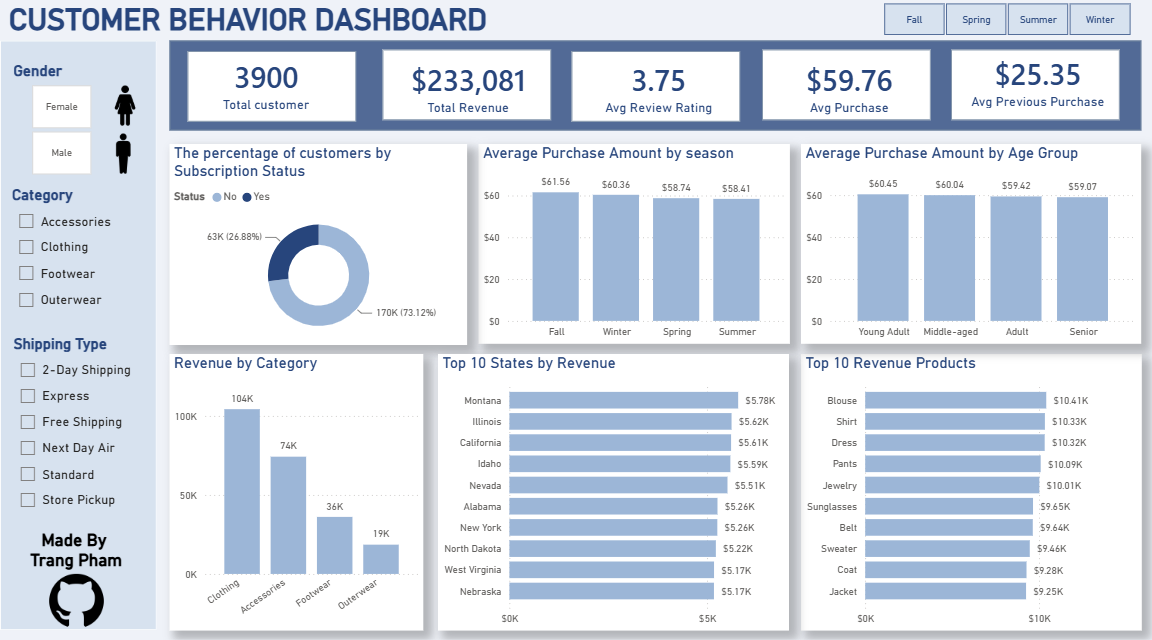

This screenshot's page, from the dashboard's own definition file:
{"tool":"powerbi","page":{"name":"Executive","canvas":[1280,720],"ordinal":0},"visuals":[{"type":"textbox","box":[4.7,2.7,598,53.3],"z":5000,"group":"g1"},{"type":"group","id":"g1","title":"Group 1","box":[0,2.6,1280,704.5],"z":6000},{"type":"clusteredBarChart","title":"Top 10 Revenue Products ","fields":{"Category":["final_data.item_purchased"],"Y":["Sum(final_data.purchase_amount)"]},"box":[890.1,400,378.9,307],"z":6000,"group":"g1"},{"type":"shape","box":[0,51.8,174.1,655.2],"z":6156,"group":"g1"},{"type":"slicer","title":"Gender","fields":{"Values":["final_data.gender"]},"box":[10.3,74.4,115.4,132.1],"z":6312,"group":"g1"},{"type":"image","box":[10.3,639.7,150,67.2],"z":6351,"group":"g1"},{"type":"image","box":[112.8,101.3,51.3,44.9],"z":6390,"group":"g1"},{"type":"slicer","title":"Shipping Type","fields":{"Values":["final_data.shipping_type"]},"box":[10.3,377.6,158.6,212.1],"z":6468,"group":"g1"},{"type":"textbox","box":[8.3,588.9,152.8,106.9],"z":6625,"group":"g1"},{"type":"slicer","title":"Category","fields":{"Values":["final_data.category"]},"box":[9,212.9,144.9,157.7],"z":6937,"group":"g1"},{"type":"image","box":[100,153.9,74.4,44.9],"z":7250,"group":"g1"},{"type":"actionButton","box":[51.7,639.7,74.1,67.2],"z":8500,"group":"g1"},{"type":"shape","box":[188.5,51,1079.8,100],"z":11000,"group":"g1"},{"type":"columnChart","fields":{"Category":["final_data.season"],"Y":["Measure.Average Purchase Amount"]},"box":[531.9,165.3,345.8,222.2],"z":11250,"group":"g1"},{"type":"donutChart","title":"The percentage of customers  by Subscription Status","fields":{"Category":["final_data.subscription_status"],"Y":["Sum(final_data.purchase_amount)"]},"box":[188.5,165.4,330.8,223.1],"z":11375,"group":"g1"},{"type":"columnChart","title":"Revenue by Category","fields":{"Category":["final_data.category"],"Y":["Sum(final_data.purchase_amount)"]},"box":[188.7,400,281.7,307],"z":11437,"group":"g1"},{"type":"clusteredBarChart","title":"Top 10 States by Revenue","fields":{"Category":["final_data.location"],"Y":["Sum(final_data.purchase_amount)"]},"box":[487.3,400,390.1,307],"z":11500,"group":"g1"},{"type":"columnChart","title":"Average Purchase Amount by Age Group","fields":{"Category":["final_data.age_group"],"Y":["Measure.Average Purchase Amount"]},"box":[890.3,166.7,377.8,222.2],"z":11750,"group":"g1"},{"type":"shape","box":[208.9,62.5,187.5,78.6],"z":12000,"group":"g1"},{"type":"cardVisual","fields":{"Data":["Measure.Total customer"]},"box":[208.9,50,173.2,100],"z":13000,"group":"g1"},{"type":"shape","box":[1057.1,60.8,187.5,78.6],"z":14000,"group":"g1"},{"type":"cardVisual","fields":{"Data":["Measure.Avg Previous Purchase"]},"box":[1041.1,46.5,221.4,98.2],"z":15000,"group":"g1"},{"type":"shape","box":[425,60.8,187.5,78.6],"z":16000,"group":"g1"},{"type":"cardVisual","fields":{"Data":["Sum(final_data.purchase_amount)"]},"box":[423.2,51.8,192.9,100],"z":17000,"group":"g1"},{"type":"shape","box":[635.7,62.5,187.5,78.6],"z":18000,"group":"g1"},{"type":"shape","box":[846.4,60.8,187.5,78.6],"z":19000,"group":"g1"},{"type":"cardVisual","fields":{"Data":["Measure.Average Review Rating"]},"box":[635.7,51.8,192.9,100],"z":20000,"group":"g1"},{"type":"cardVisual","fields":{"Data":["Measure.Average Purchase Amount"]},"box":[851.8,51.8,182.1,100],"z":21000,"group":"g1"},{"type":"slicer","fields":{"Values":["final_data.season"]},"box":[956.9,2.6,323.1,48.7],"z":22000,"group":"g1"}]}

Visuals, with their boxes in screenshot pixels (x1, y1, x2, y2), scaled from the page's 1280x720 canvas onto the 1152x640 screenshot:
textbox: region(4, 2, 542, 50)
"Group 1" group: region(0, 2, 1151, 629)
"Top 10 Revenue Products " clusteredBarChart: region(801, 356, 1142, 628)
shape: region(0, 46, 157, 628)
"Gender" slicer: region(9, 66, 113, 184)
image: region(9, 569, 144, 628)
image: region(102, 90, 148, 130)
"Shipping Type" slicer: region(9, 336, 152, 524)
textbox: region(7, 523, 145, 618)
"Category" slicer: region(8, 189, 139, 329)
image: region(90, 137, 157, 177)
actionButton: region(47, 569, 113, 628)
shape: region(170, 45, 1141, 134)
columnChart - final_data.season x Measure.Average Purchase Amount: region(479, 147, 790, 344)
"The percentage of customers  by Subscription Status" donutChart: region(170, 147, 467, 345)
"Revenue by Category" columnChart: region(170, 356, 423, 628)
"Top 10 States by Revenue" clusteredBarChart: region(439, 356, 790, 628)
"Average Purchase Amount by Age Group" columnChart: region(801, 148, 1141, 346)
shape: region(188, 56, 357, 125)
cardVisual - Measure.Total customer: region(188, 44, 344, 133)
shape: region(951, 54, 1120, 124)
cardVisual - Measure.Avg Previous Purchase: region(937, 41, 1136, 129)
shape: region(382, 54, 551, 124)
cardVisual - Sum(final_data.purchase_amount): region(381, 46, 554, 135)
shape: region(572, 56, 741, 125)
shape: region(762, 54, 931, 124)
cardVisual - Measure.Average Review Rating: region(572, 46, 746, 135)
cardVisual - Measure.Average Purchase Amount: region(767, 46, 931, 135)
slicer - final_data.season: region(861, 2, 1151, 46)
